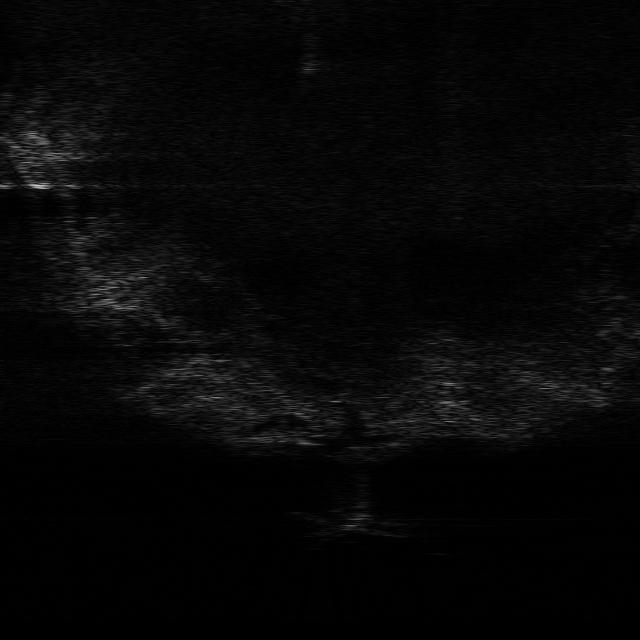plane: (288, 502, 407, 540)
